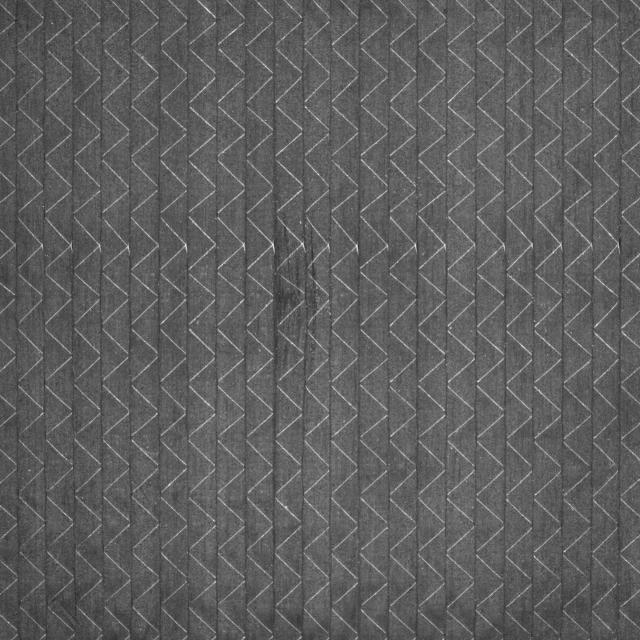carbon-fibre-defect: (265, 209, 337, 376)
